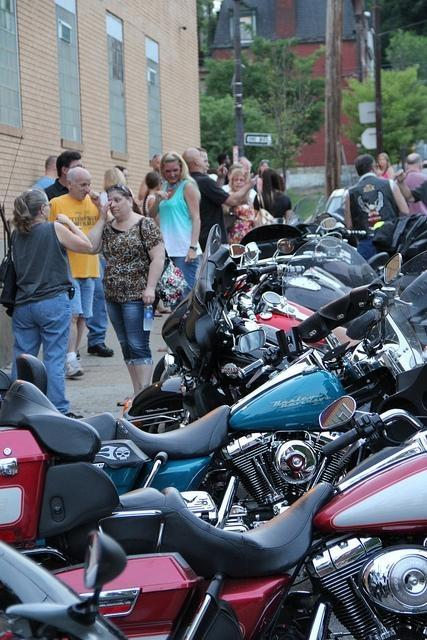motorcycle: (0, 215, 427, 633), (328, 212, 427, 265)
